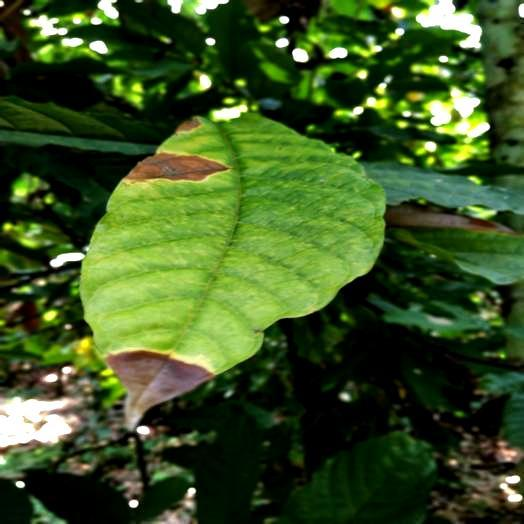Potassium: (80, 114, 384, 426)
